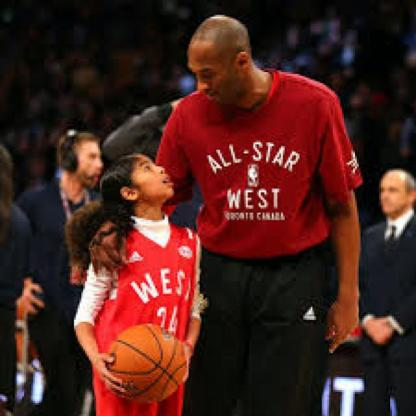basketball: (107, 324, 185, 404)
